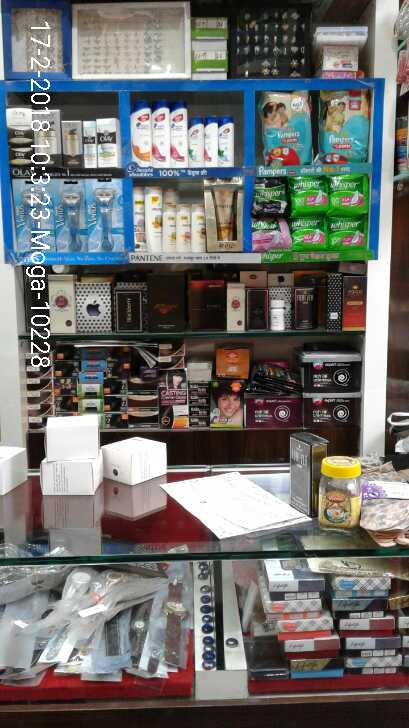venus: (54, 180, 89, 252), (18, 180, 53, 248), (89, 176, 120, 252)
